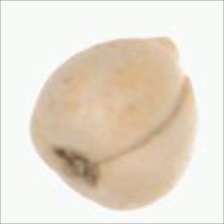L3: (164, 36, 191, 89)
L4: (30, 35, 198, 211)
